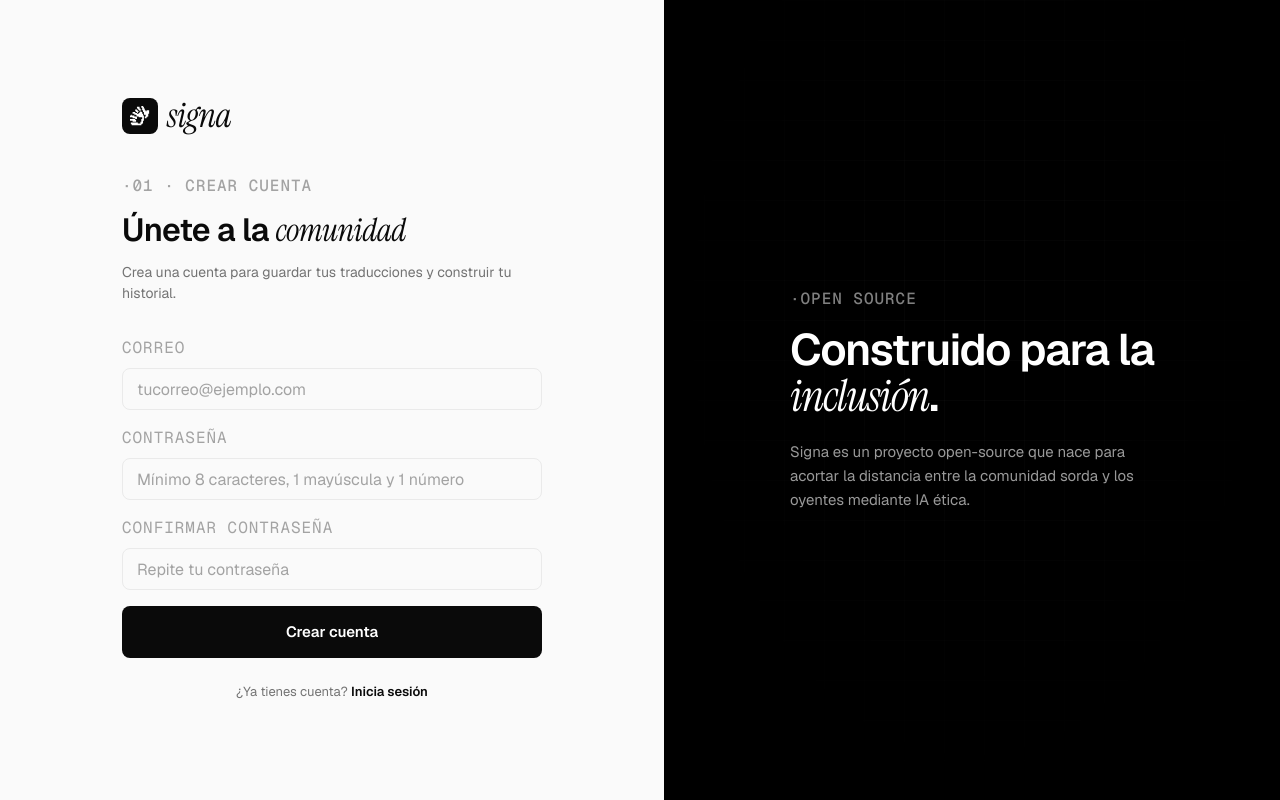
Scenario: RegisterPage › shows error when password is weak
The image size is (1280, 800).
In the field labelled "Correo": (332, 389) [122,368,542,410], type "a@b.com"
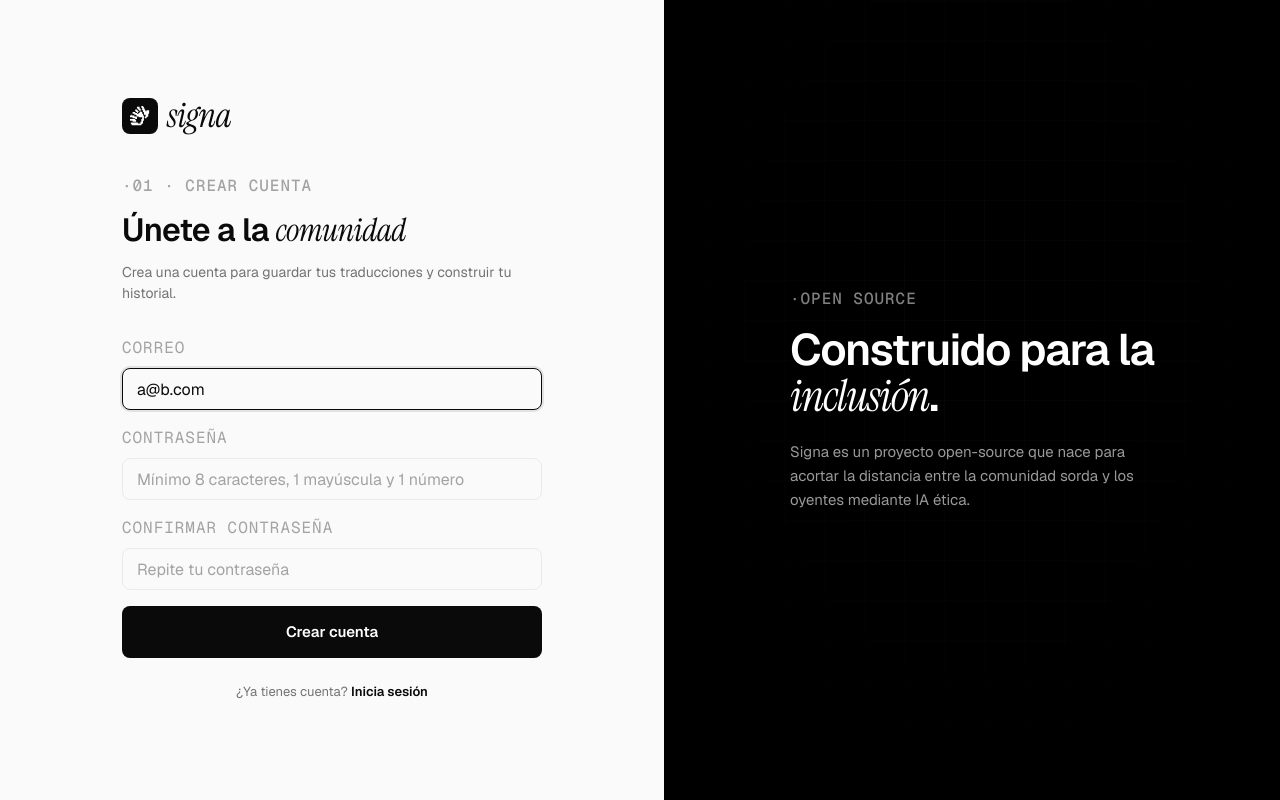
In the password field labelled "Contraseña": (332, 479) [122,458,542,500], type "weak"
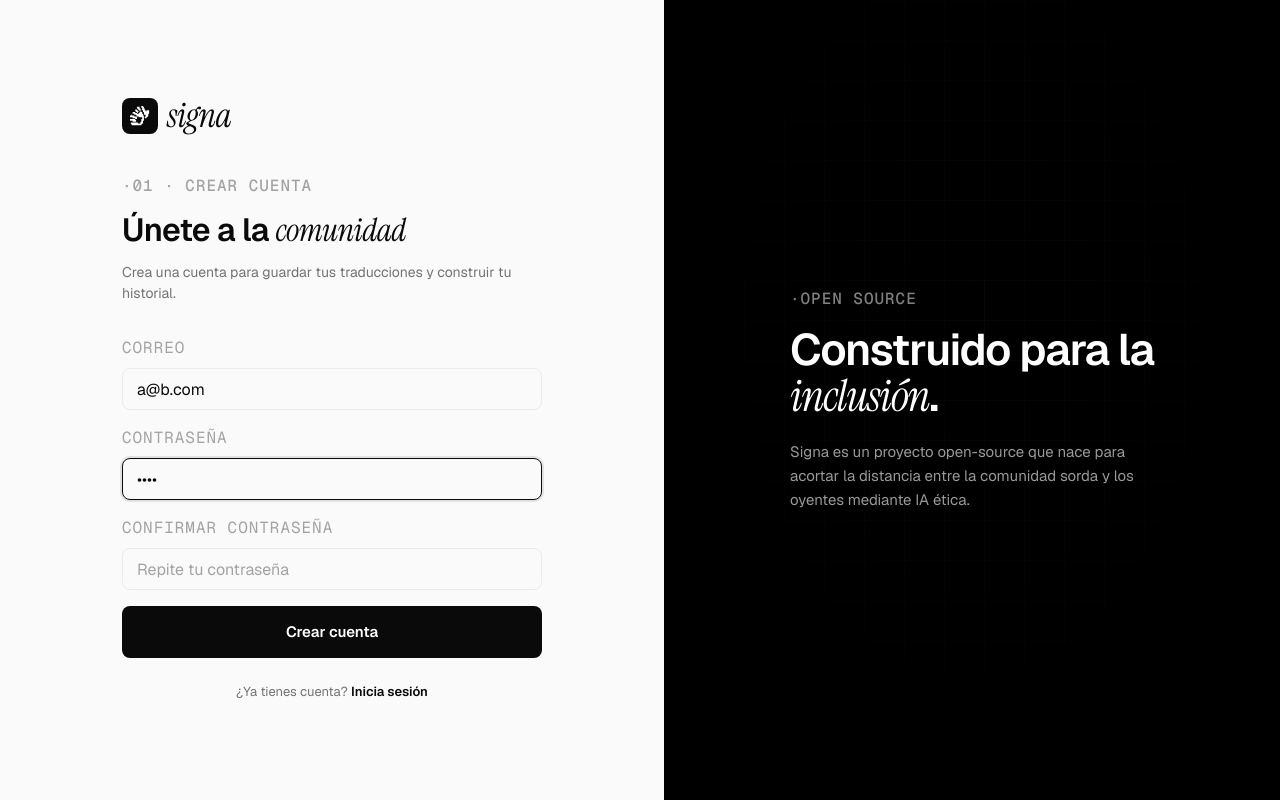
In the password field labelled "Confirmar contraseña": (332, 569) [122,548,542,590], type "weak"
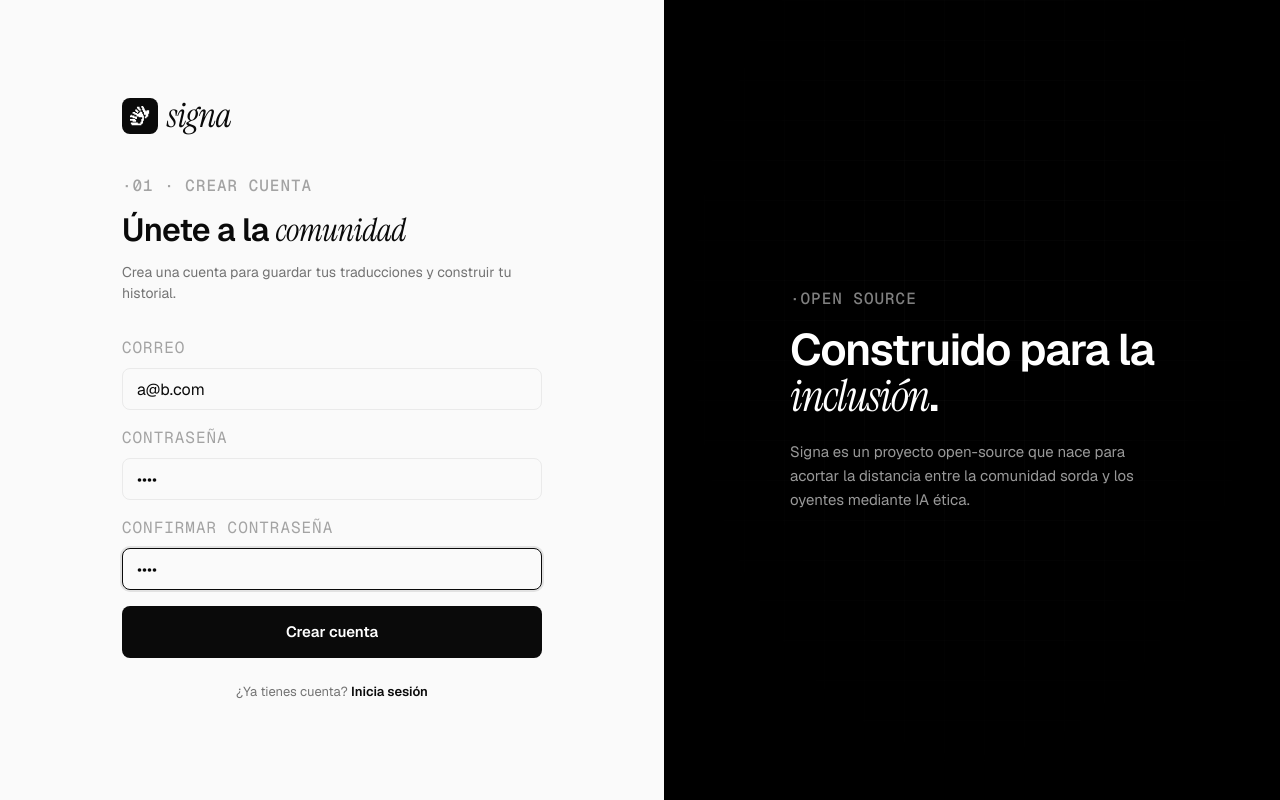
Click the button "Crear cuenta": (332, 632) [122,606,542,658]
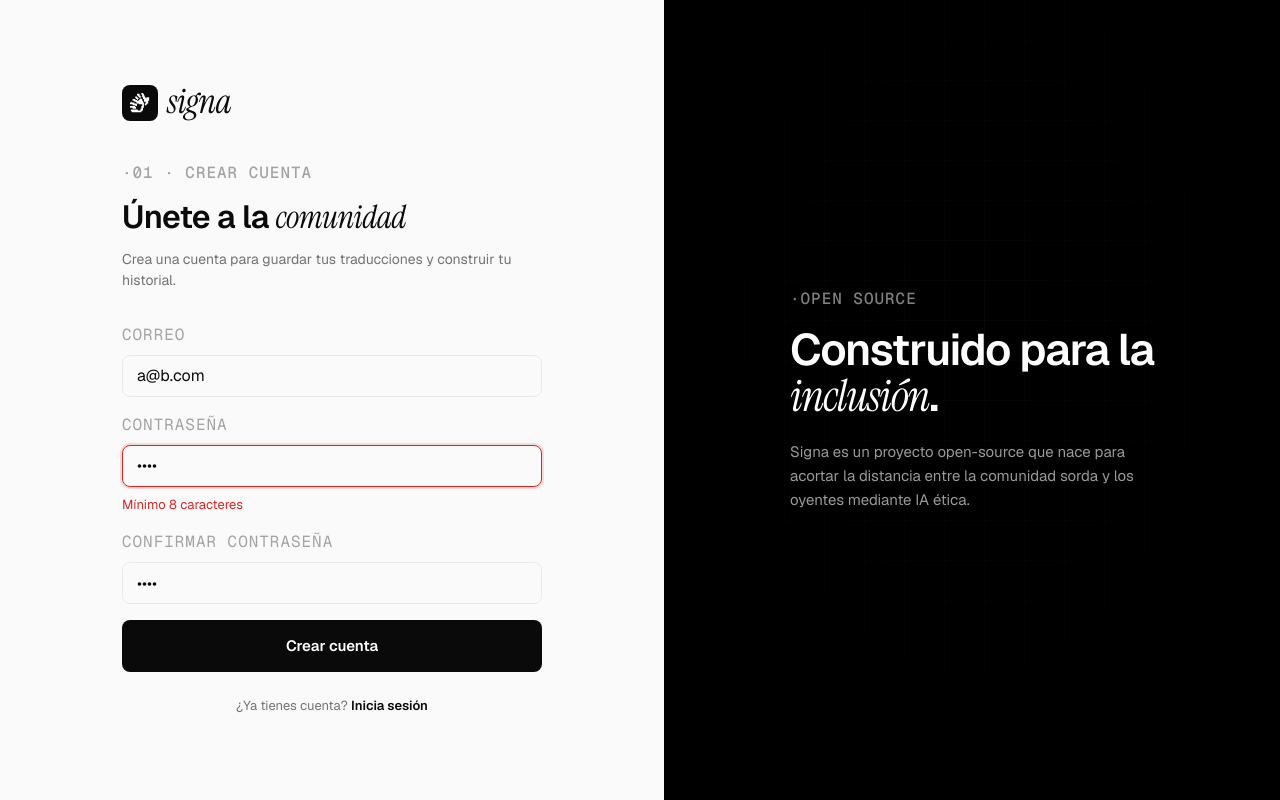
Check: the text "Mínimo 8 caracteres" is shown, box [122,496,243,512]
